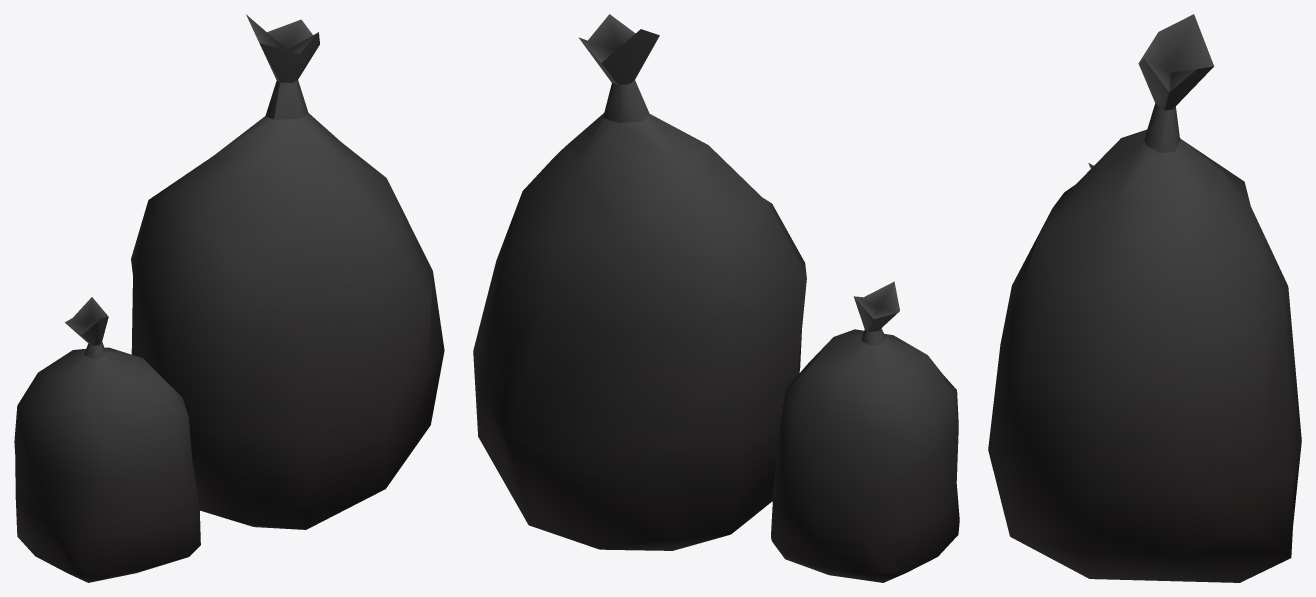
Rendered from Trash_bag_003.fbx.
The picture shows the model from 3 angles, left to right: view 1: azimuth 30°, elevation 25°; view 2: azimuth 150°, elevation 25°; view 3: azimuth 270°, elevation 25°; orthographic projection. The views are drawn at different scales.
Visible parts, largest first — view 1: Trash_bag_003; view 2: Trash_bag_003; view 3: Trash_bag_003.
Part boxes in pixels (<box>): Trash_bag_003: <box>14,14,444,582</box>; Trash_bag_003: <box>473,14,959,582</box>; Trash_bag_003: <box>988,14,1301,582</box>.
Size of the model in its own units: 57.22 by 33.56 by 63.18.
